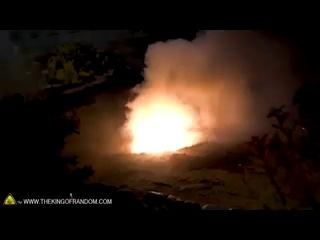Fire: (119, 69, 206, 155)
